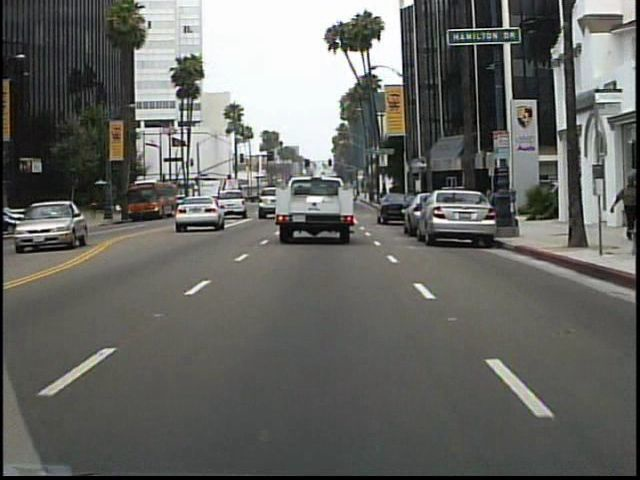person: (605, 173, 639, 241), (90, 196, 104, 224)
